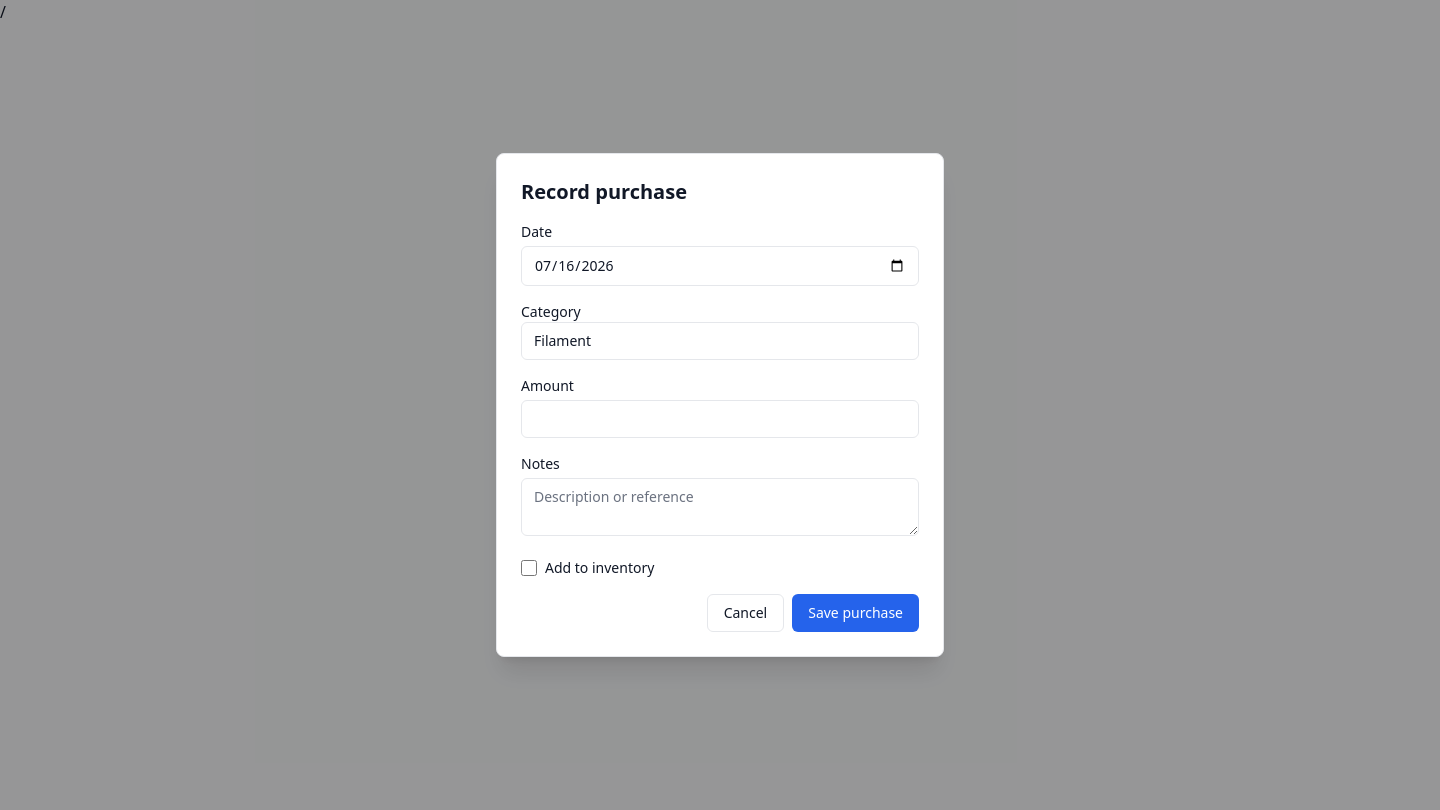
CreatePurchaseDialog › overhead purchase › rejects a blank amount inline
Click the button with test id "purchase-submit" at (856, 613), box left=792, top=594, right=919, bottom=632
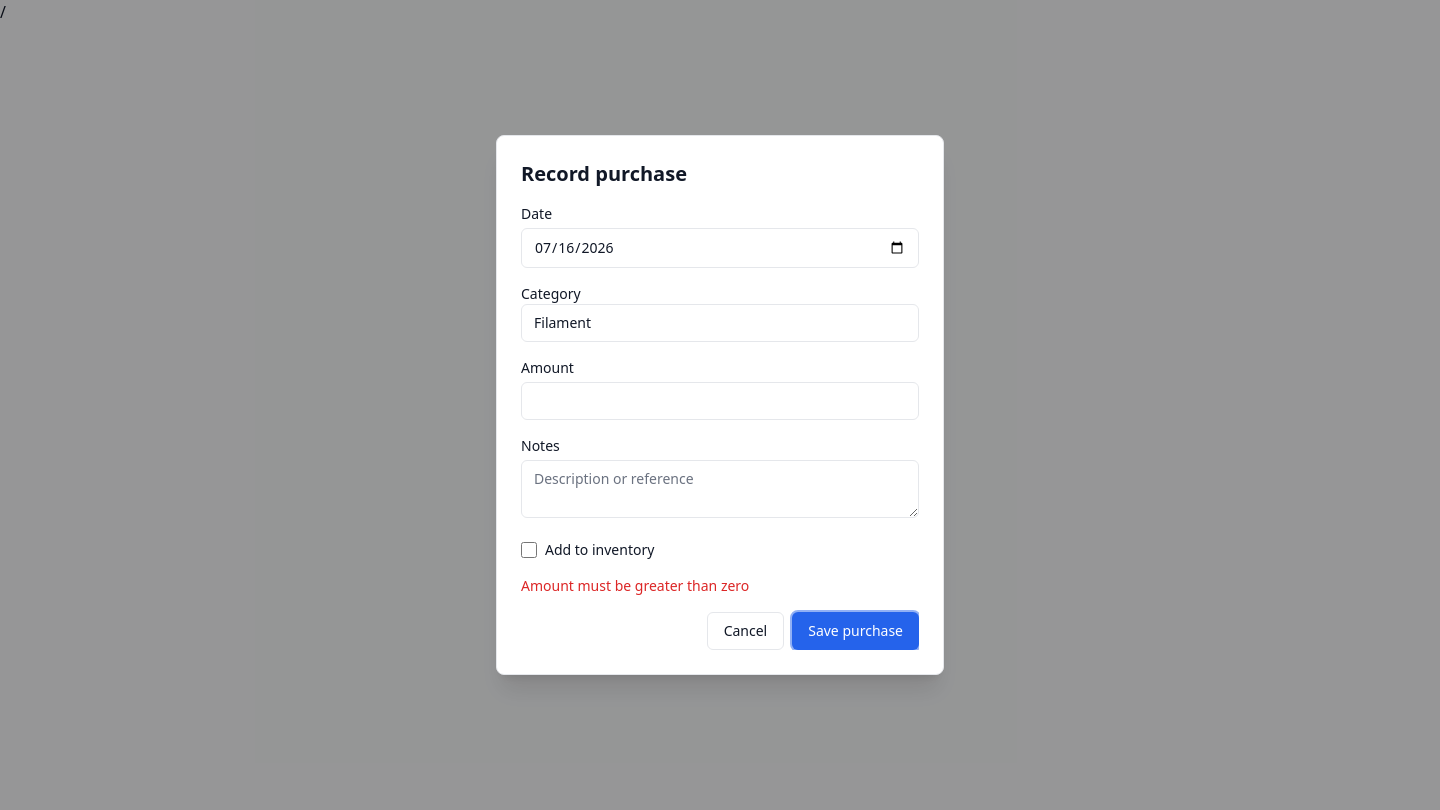
Check: the message reads "Amount must be greater than zero", box left=521, top=576, right=749, bottom=595
